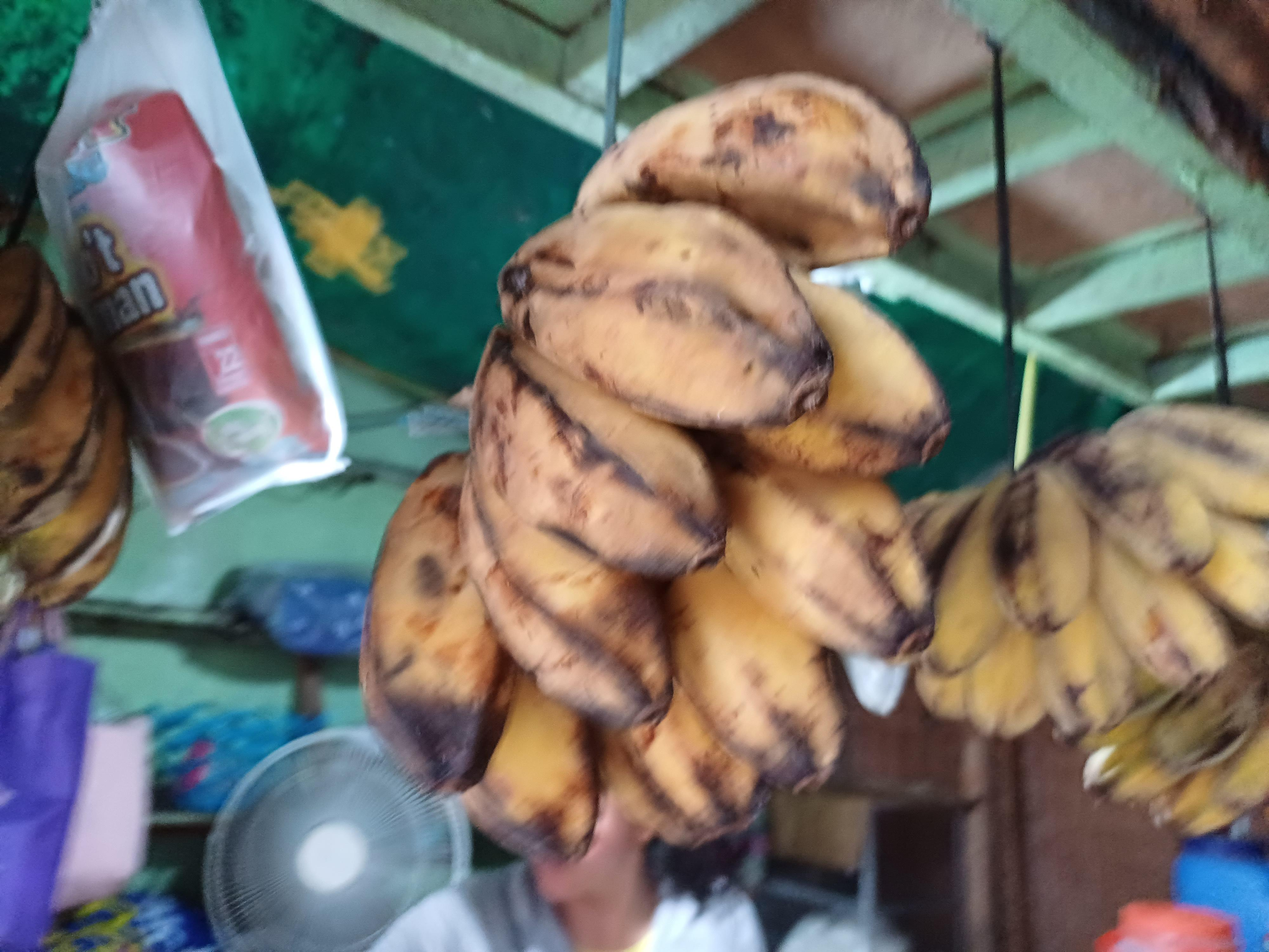ripe: (360, 73, 949, 858), (917, 405, 1269, 737), (0, 243, 131, 617)
